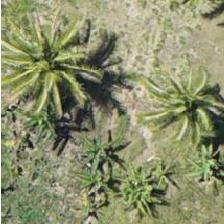Kelapa_Sawit: (6, 20, 96, 110), (151, 56, 224, 146)
